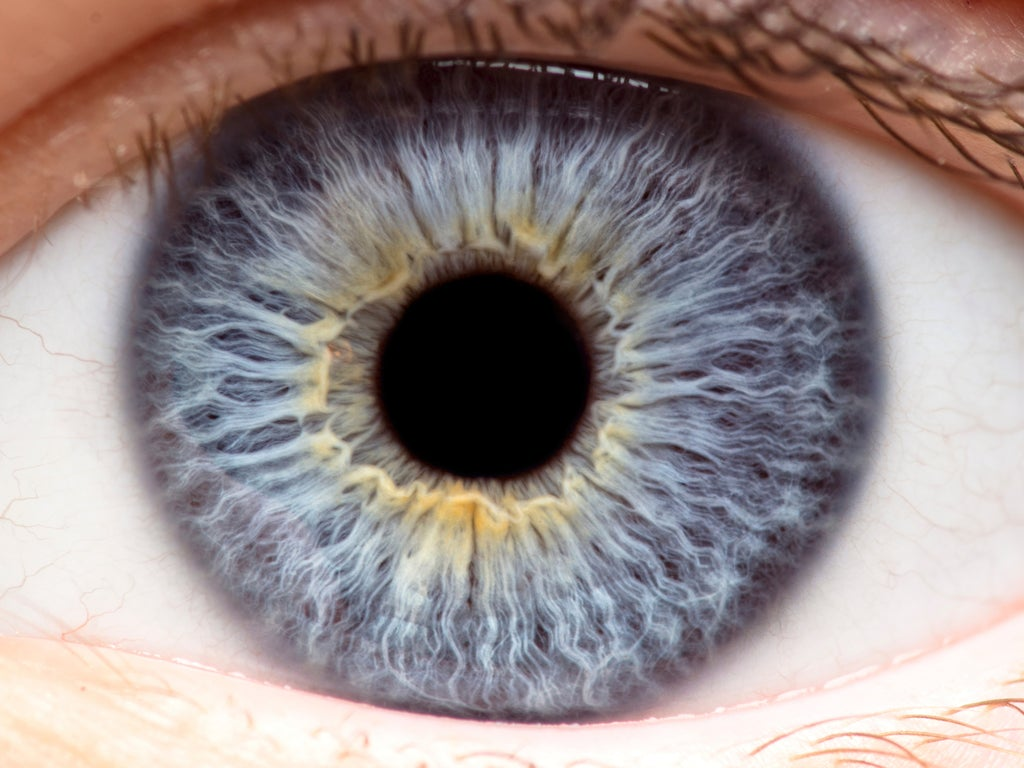iris: (121, 52, 879, 720)
pupil: (367, 260, 596, 484)
